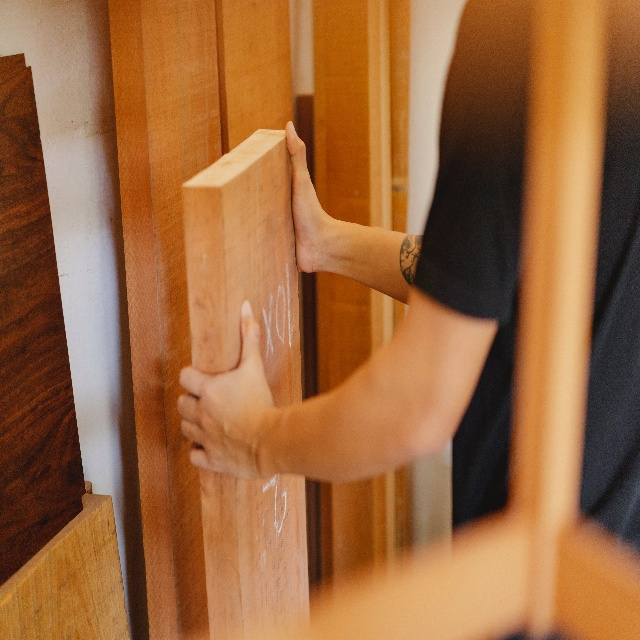Sin_guantes: (176, 298, 276, 481), (286, 120, 324, 273)
